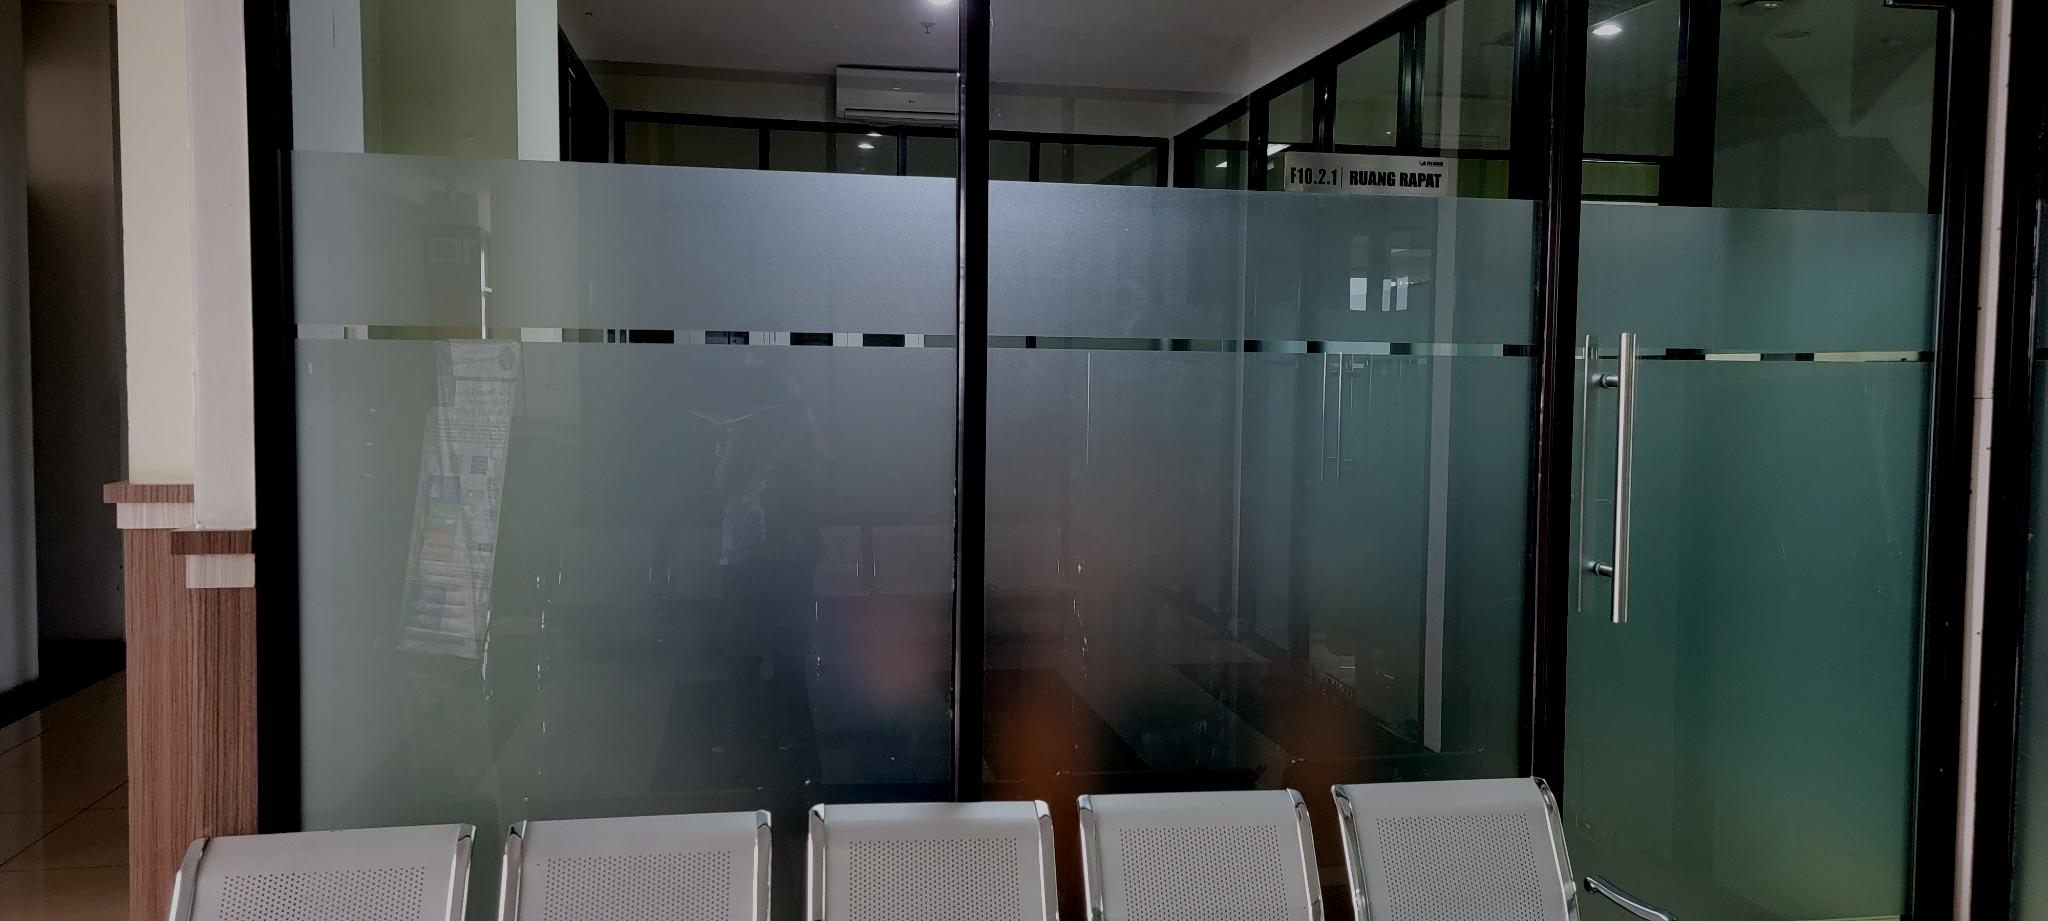plate: (1284, 152, 1451, 197)
